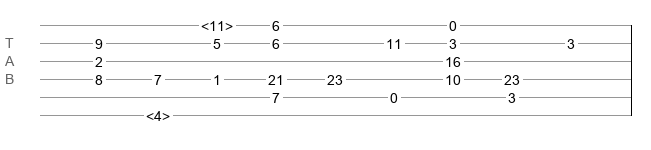0: (390, 90, 398, 100), (449, 18, 457, 28)
1: (213, 72, 221, 82)
10: (445, 72, 461, 82)
11: (386, 36, 402, 46)
16: (445, 54, 461, 64)
2: (95, 54, 103, 64)
21: (268, 72, 284, 82)
23: (327, 72, 343, 82), (504, 72, 520, 82)
3: (449, 36, 457, 46), (508, 90, 516, 100), (567, 36, 575, 46)
5: (213, 36, 221, 46)
6: (272, 18, 280, 28), (272, 36, 280, 46)
7: (154, 72, 162, 82), (272, 90, 280, 100)
8: (95, 72, 103, 82)
9: (95, 36, 103, 46)
harmonic: (201, 18, 233, 28), (146, 108, 170, 118)
